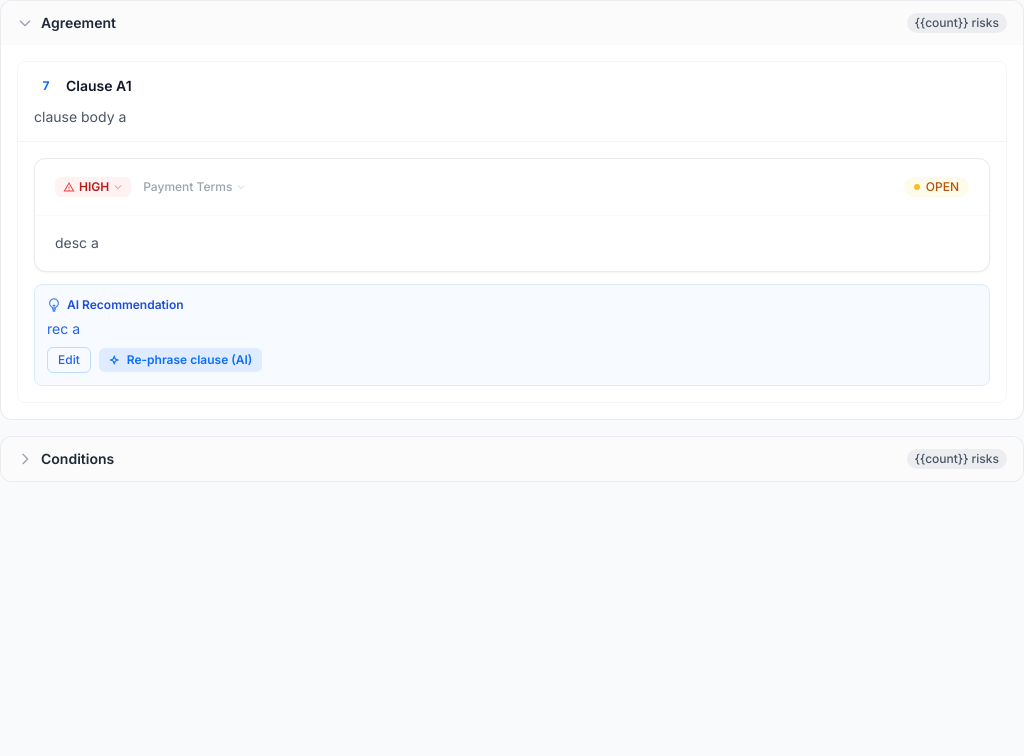
Scenario: RiskAnalysisTab — grouping + order › groups risks by document; first section expanded, second collapsed
Expected: the text "Agreement" is shown, [41,13,116,33]
Expected: the heading "Clause A1" is shown, [66,76,132,96]
// Expanding the second reveals its clause.
Click the text "Conditions" at coordinates (78, 458), box [41,448,114,468]
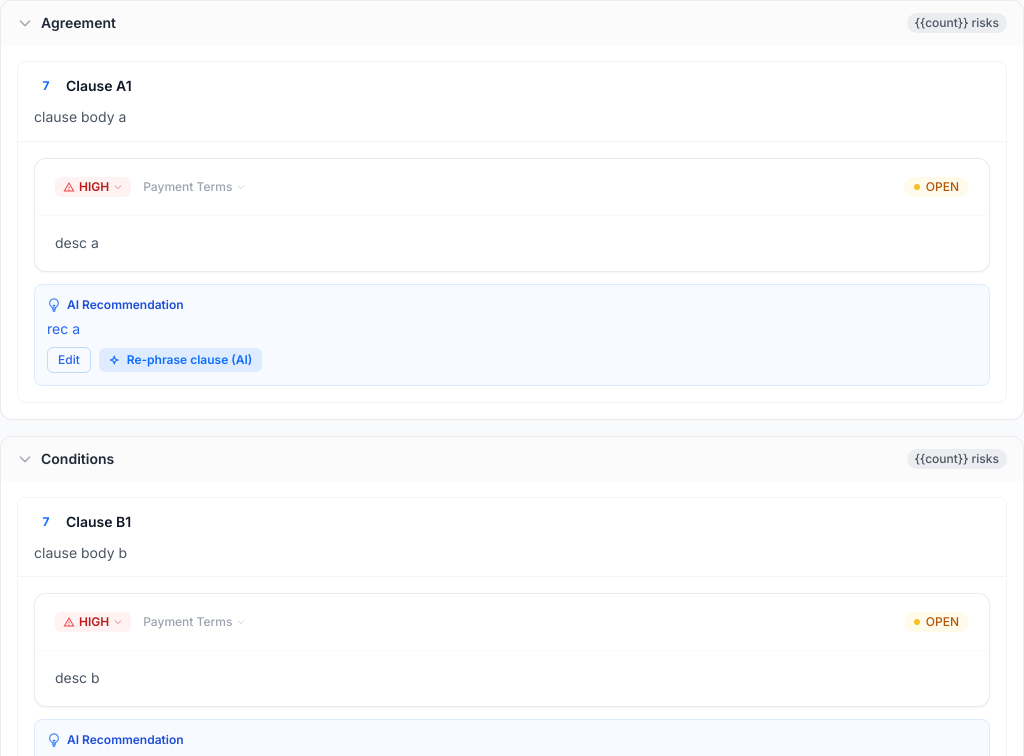
Expected: the heading "Clause B1" is shown, [66,512,131,532]
